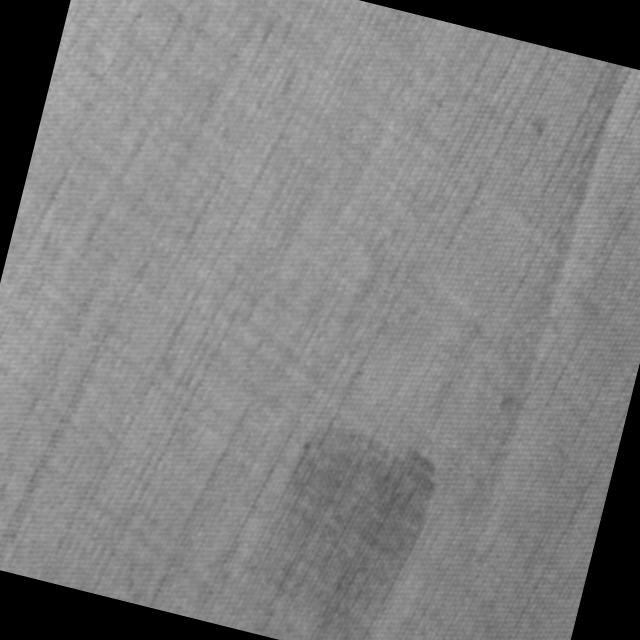oil spot: (247, 410, 448, 640)
